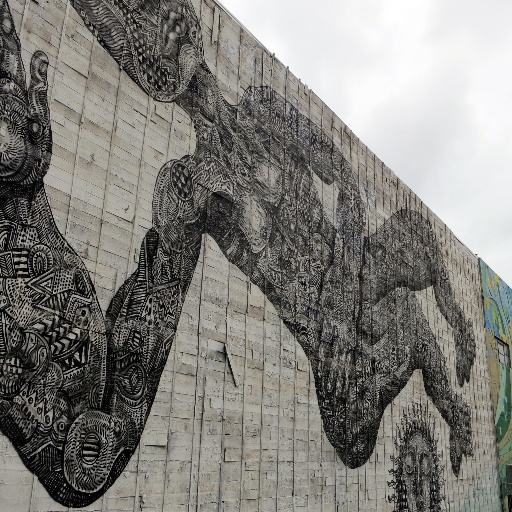hand: (0, 0, 52, 192), (316, 263, 361, 400)
